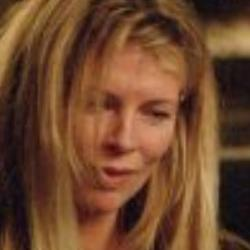face: (1, 4, 231, 241)
